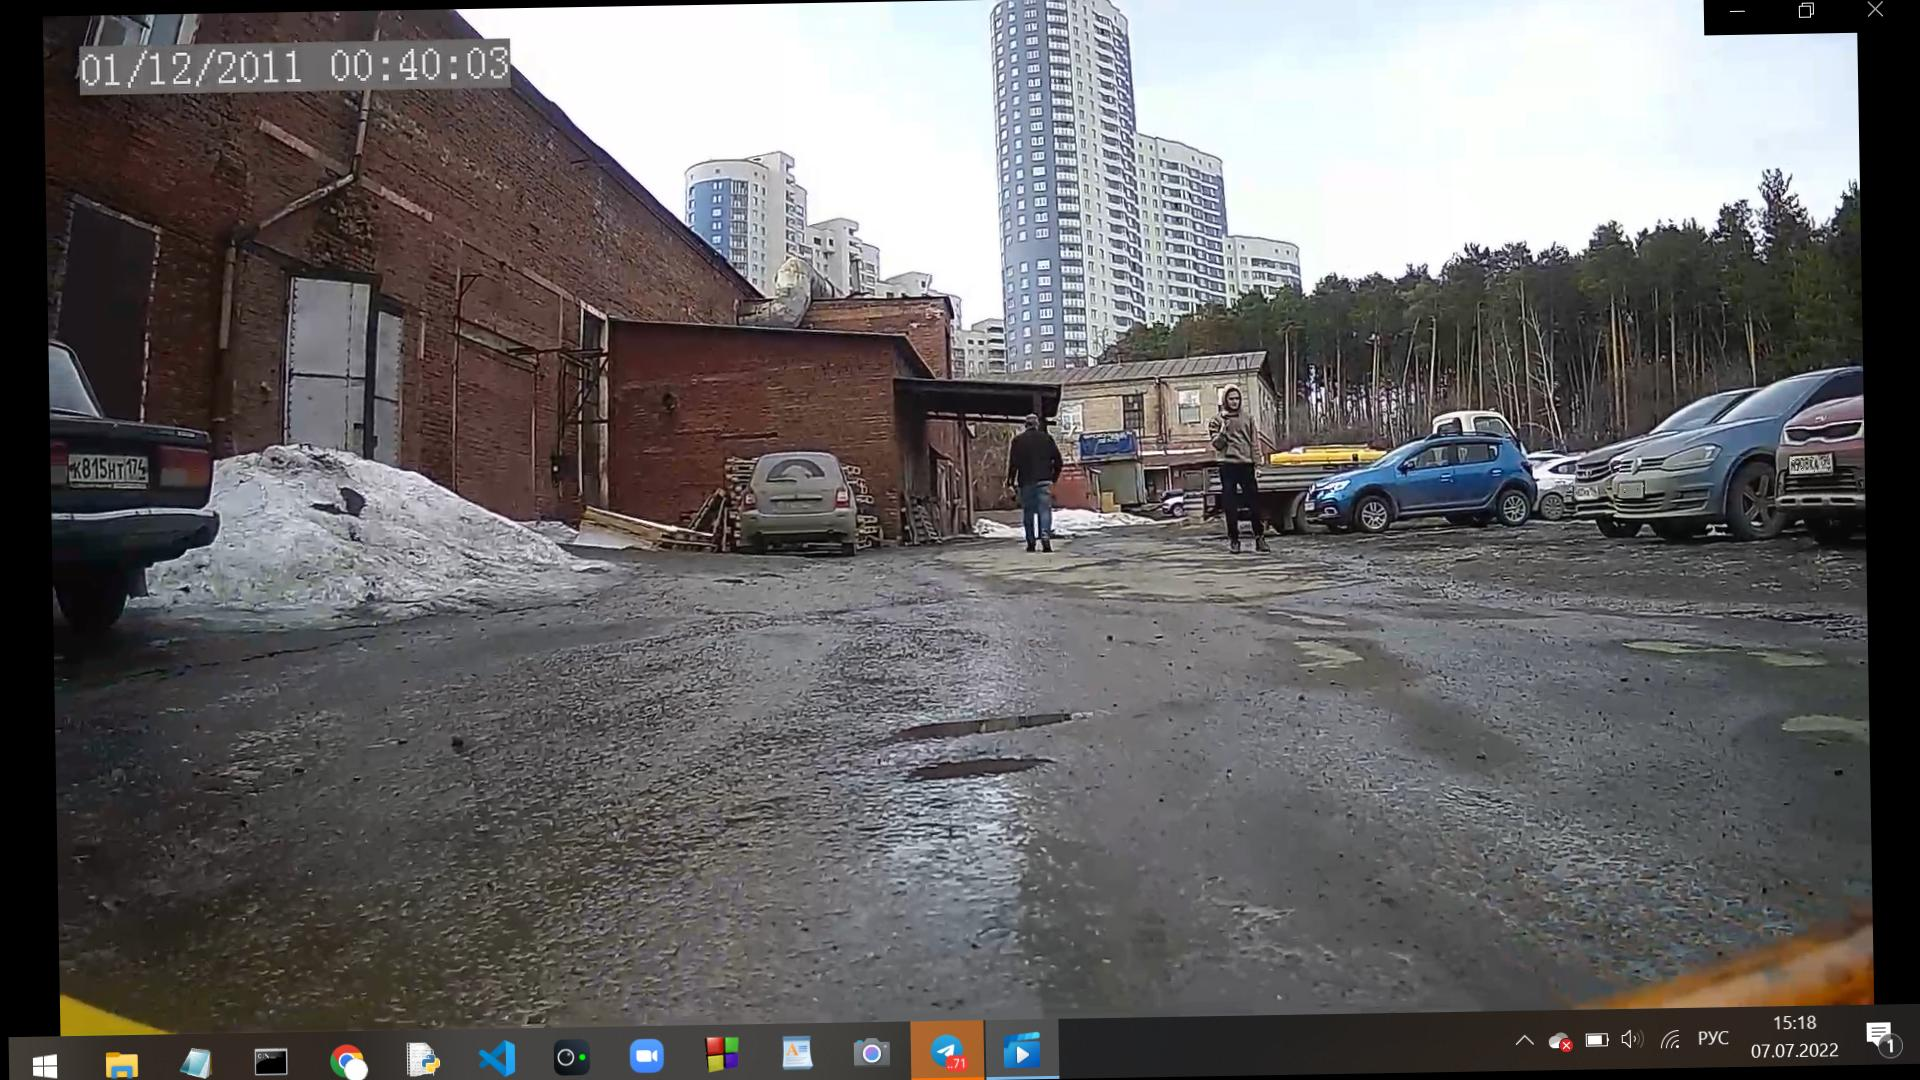plate: (70, 456, 149, 483), (1788, 457, 1833, 473), (1618, 483, 1650, 496), (1576, 488, 1595, 500)
